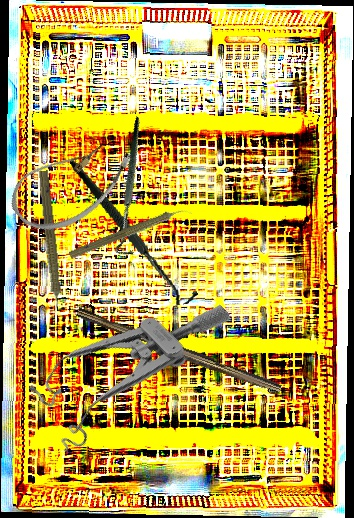Cannula: (0, 116, 143, 249)
Handpiece: (67, 201, 194, 264), (32, 169, 67, 319)
Hook Surgical: (69, 141, 200, 321), (65, 115, 201, 262)
Scalpel Handle: (73, 307, 284, 397)
Speculum: (14, 249, 233, 469)
